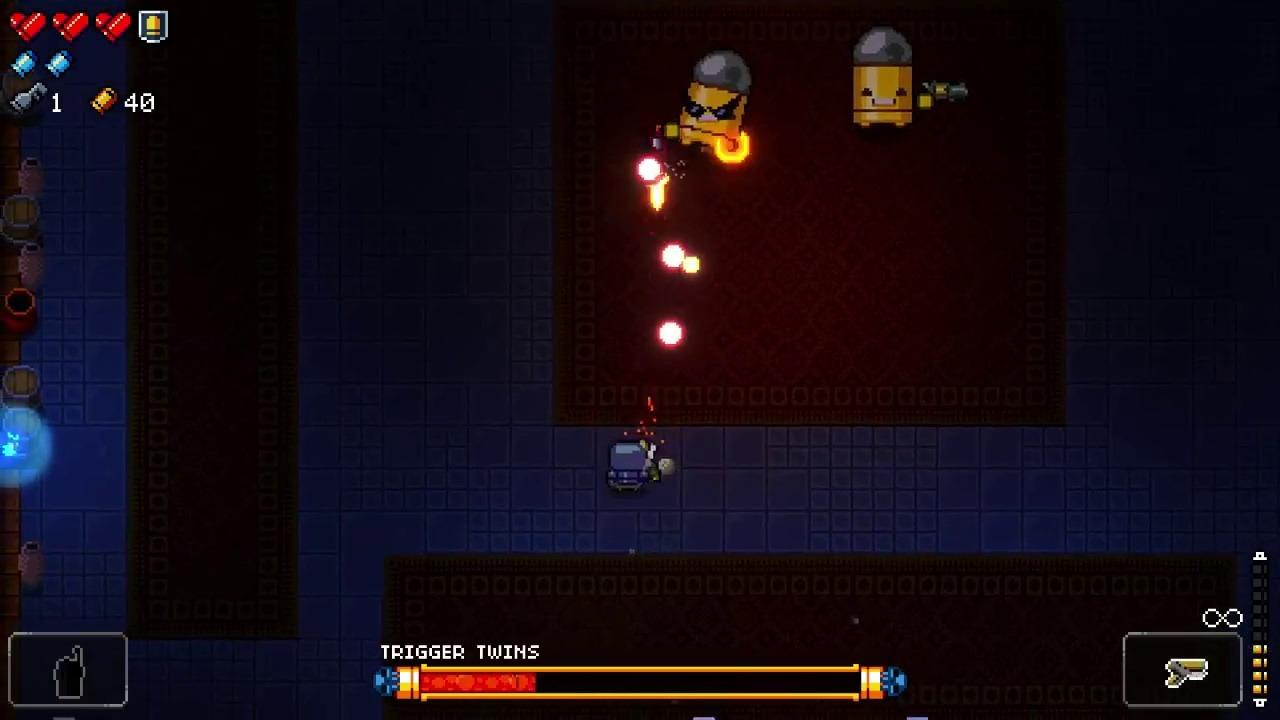boss_shades: (680, 51, 752, 157)
boss_smiley: (855, 30, 915, 128)
bullet: (657, 320, 685, 350), (660, 242, 685, 268), (636, 157, 662, 182)
player: (609, 443, 650, 493)
